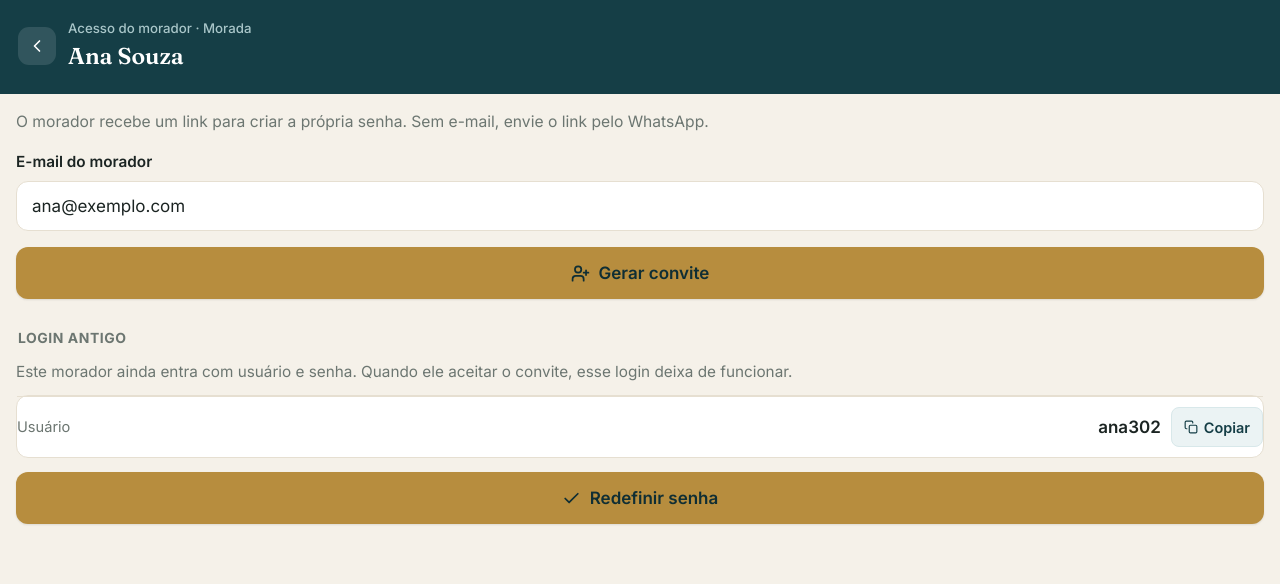
Scenario: ResidentAccessScreen › a failed legacy reset explains itself
The width and height of the screenshot is (1280, 584).
Click the button "Redefinir senha": (640, 498) [16, 472, 1264, 524]
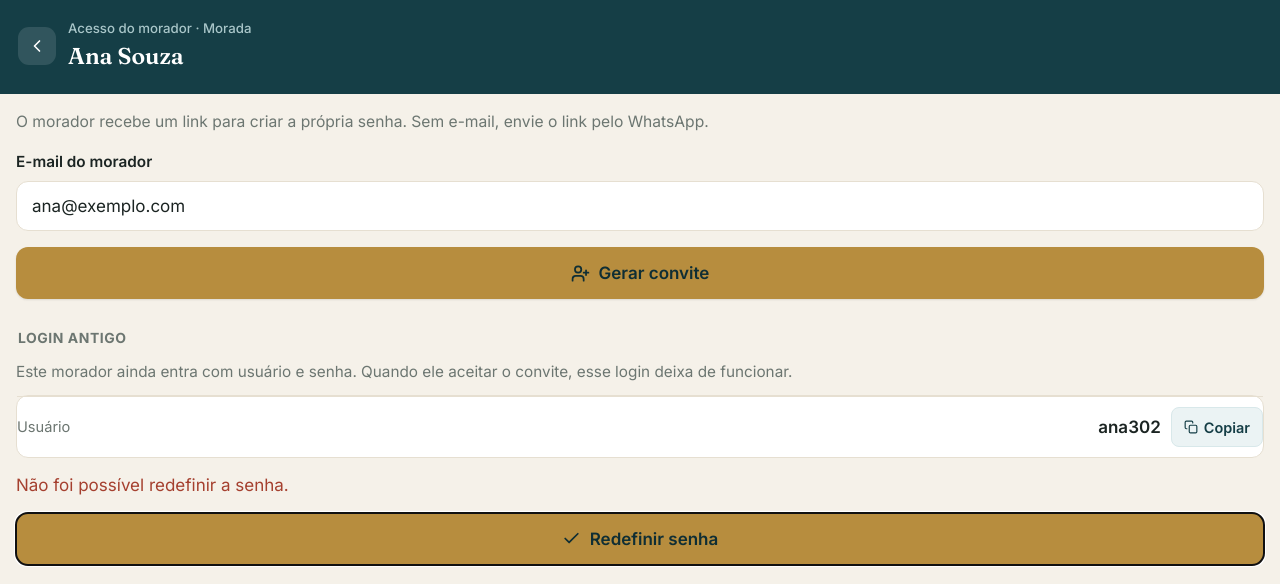
Now the message reads "Não foi possível redefinir a senha.", box [16, 475, 289, 495]
